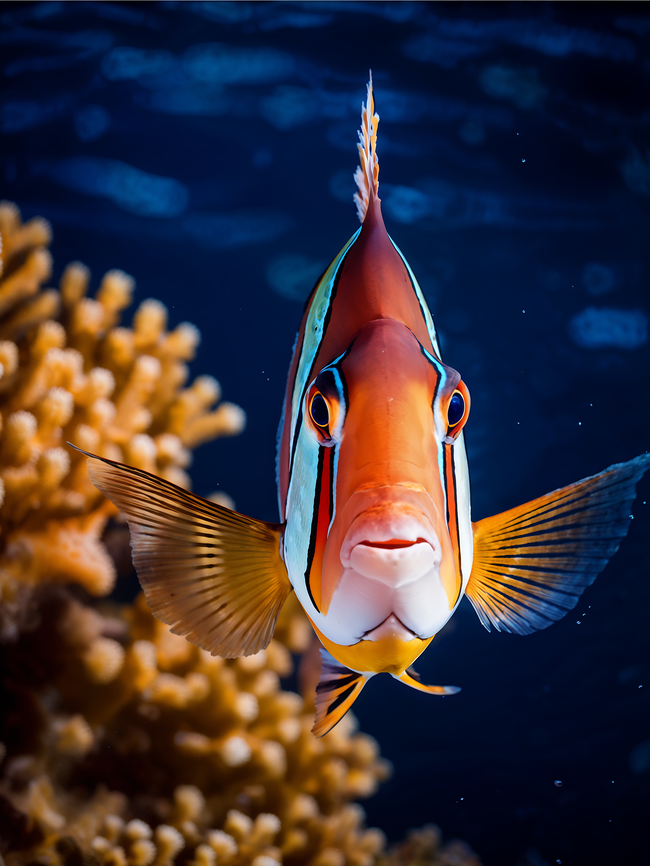fish: (119, 101, 650, 730)
